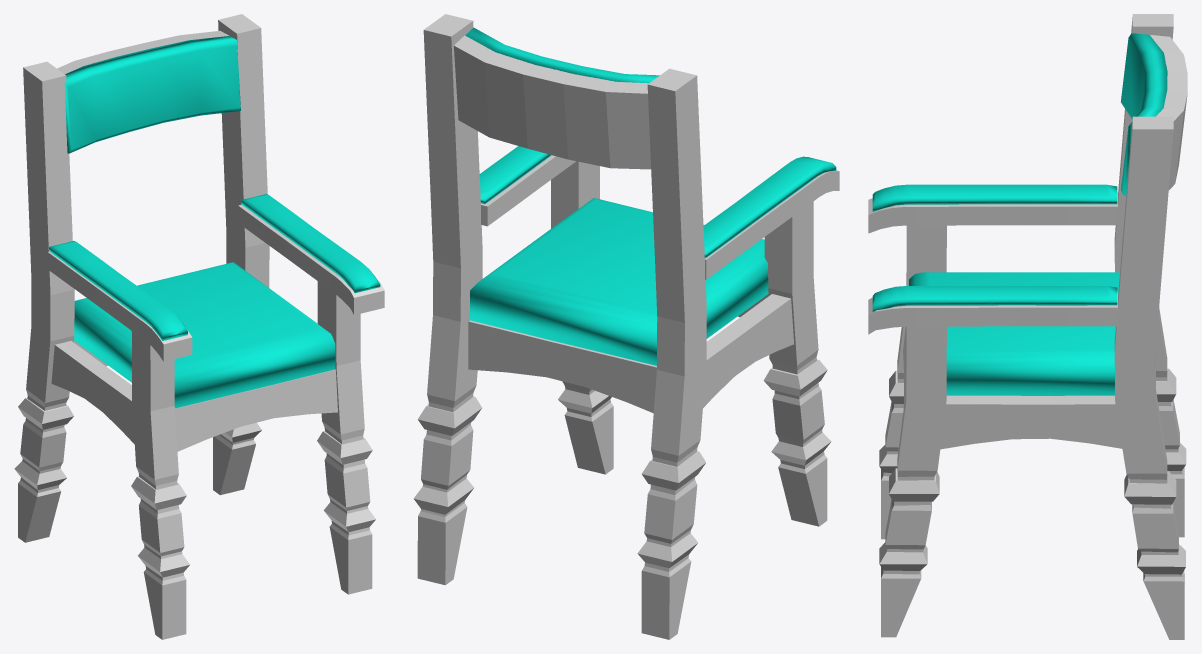
The model's file is chair_tier7.fbx.
The picture shows the model from 3 angles, left to right: view 1: azimuth 30°, elevation 25°; view 2: azimuth 150°, elevation 25°; view 3: azimuth 270°, elevation 25°; orthographic projection. The views are drawn at different scales.
Visible parts, largest first — view 1: Cube, Cube.014, Cube.005, Cube.002, Cube.001, Cube.003, Cube.011, Cube.016, Cube.008, Cube.009, Cube.007, Cube.006 (+1 smaller); view 2: Cube.014, Cube.001, Cube, Cube.004, Cube.002, Cube.012, Cube.003, Cube.016, Cube.008, Cube.006, Cube.007, Cube.005 (+1 smaller); view 3: Cube.001, Cube, Cube.003, Cube.010, Cube.007, Cube.006, Cube.008, Cube.014, Cube.009, Cube.002, Cube.005, Cube.004.
Part boxes in pixels (bbox=[...]): Cube: bbox=[74, 262, 335, 408]; Cube.014: bbox=[14, 61, 74, 542]; Cube.005: bbox=[64, 36, 240, 153]; Cube.002: bbox=[131, 331, 189, 639]; Cube.001: bbox=[213, 14, 269, 495]; Cube.003: bbox=[317, 281, 375, 594]; Cube.011: bbox=[175, 369, 337, 451]; Cube.016: bbox=[51, 341, 134, 443]; Cube.008: bbox=[49, 241, 187, 340]; Cube.009: bbox=[241, 194, 380, 293]; Cube.007: bbox=[238, 204, 384, 315]; Cube.006: bbox=[47, 251, 192, 361]; Cube.014: bbox=[637, 68, 706, 639]; Cube.001: bbox=[413, 14, 482, 585]; Cube: bbox=[470, 198, 768, 365]; Cube.004: bbox=[454, 35, 650, 169]; Cube.002: bbox=[763, 201, 831, 526]; Cube.012: bbox=[468, 320, 656, 413]; Cube.003: bbox=[551, 161, 613, 474]; Cube.016: bbox=[703, 294, 793, 407]; Cube.008: bbox=[703, 156, 836, 257]; Cube.006: bbox=[705, 170, 839, 279]; Cube.007: bbox=[481, 155, 575, 226]; Cube.005: bbox=[465, 27, 659, 83]; Cube.001: bbox=[1114, 116, 1185, 639]; Cube: bbox=[909, 272, 1119, 395]; Cube.003: bbox=[879, 326, 946, 637]; Cube.010: bbox=[940, 395, 1122, 449]; Cube.007: bbox=[868, 291, 1117, 334]; Cube.006: bbox=[868, 191, 1117, 233]; Cube.008: bbox=[872, 184, 1117, 211]; Cube.014: bbox=[1114, 14, 1186, 537]; Cube.009: bbox=[872, 286, 1117, 311]; Cube.002: bbox=[879, 225, 946, 539]; Cube.005: bbox=[1121, 32, 1167, 196]; Cube.004: bbox=[1150, 35, 1187, 190].
Bounding box in the file's own units: 53.53 × 107 × 60.46.
